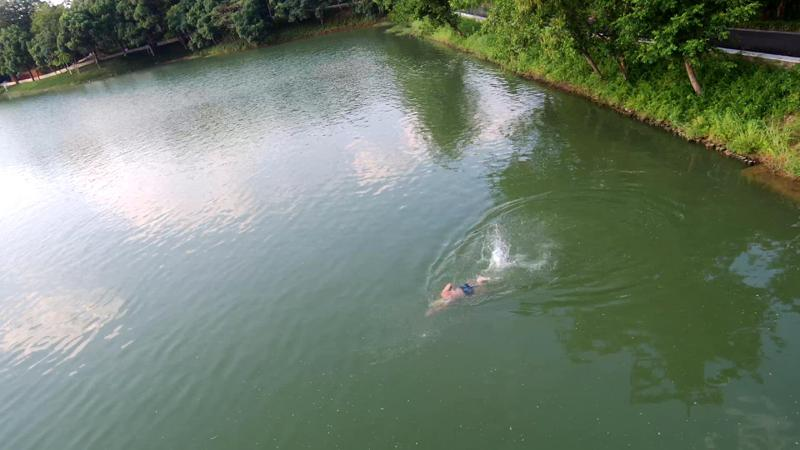swimmers: (425, 275, 492, 317)
